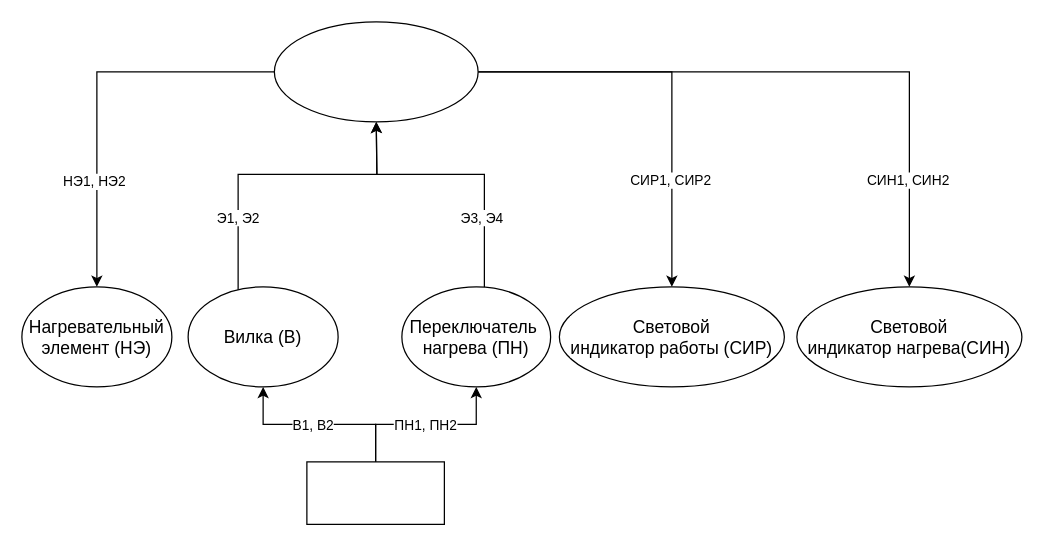
The diagram is 1044 pixels wide and 546 high, and some of its shapes have lost their labels. The shapes that lost their labels are listed below. From the top down, each one's box as (x1, y1, x2, y2) in pixels, then its label:
(273, 21, 478, 122): Электрообогреватель (Э)
(306, 461, 444, 524): Пользователь
